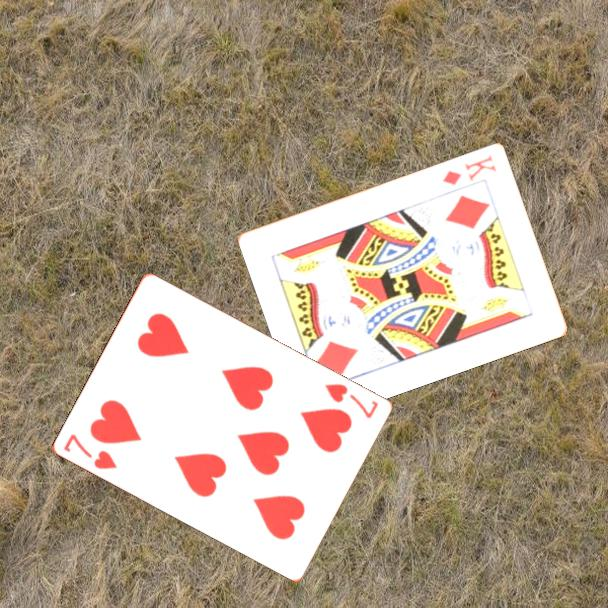d13: (439, 151, 500, 188)
h07: (60, 430, 120, 472), (321, 380, 382, 421)
